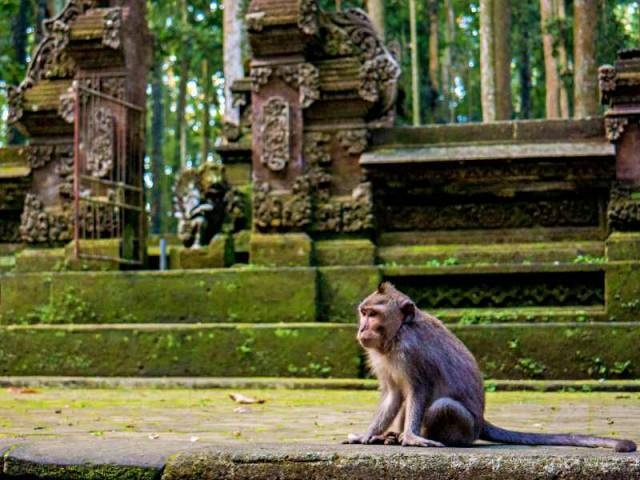monkey: (338, 278, 638, 454)
